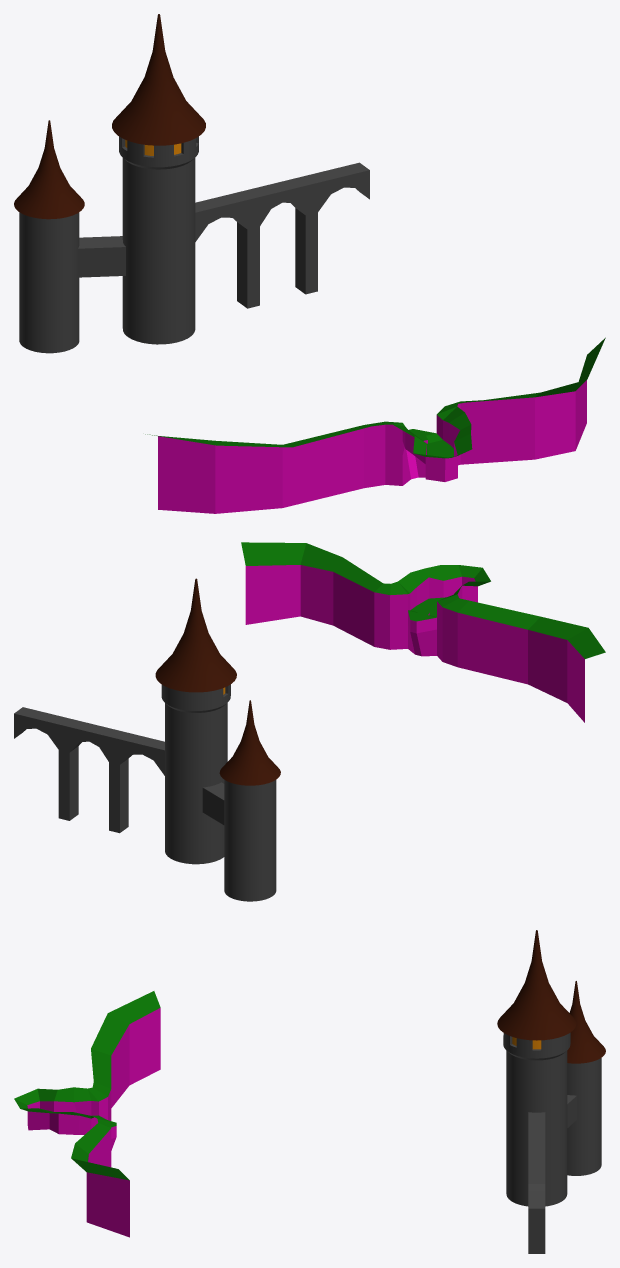
The model's file is tutorial.glb.
The picture shows the model from 3 angles, top to bottom: view 1: azimuth 30°, elevation 25°; view 2: azimuth 150°, elevation 25°; view 3: azimuth 270°, elevation 25°; orthographic projection. The views are drawn at different scales.
Visible parts, largest first — view 1: tower_mesh.001, playable_area_mesh-col.001; view 2: tower_mesh.001, playable_area_mesh-col.001; view 3: tower_mesh.001, playable_area_mesh-col.001.
Boxes of the visible parts, bbox=[...] form: tower_mesh.001: bbox=[14, 14, 369, 353]; playable_area_mesh-col.001: bbox=[145, 337, 605, 513]; tower_mesh.001: bbox=[14, 578, 280, 901]; playable_area_mesh-col.001: bbox=[241, 542, 605, 722]; tower_mesh.001: bbox=[497, 930, 605, 1253]; playable_area_mesh-col.001: bbox=[14, 991, 160, 1237].
Bounding box in the file's own units: 326 × 223 × 442.
